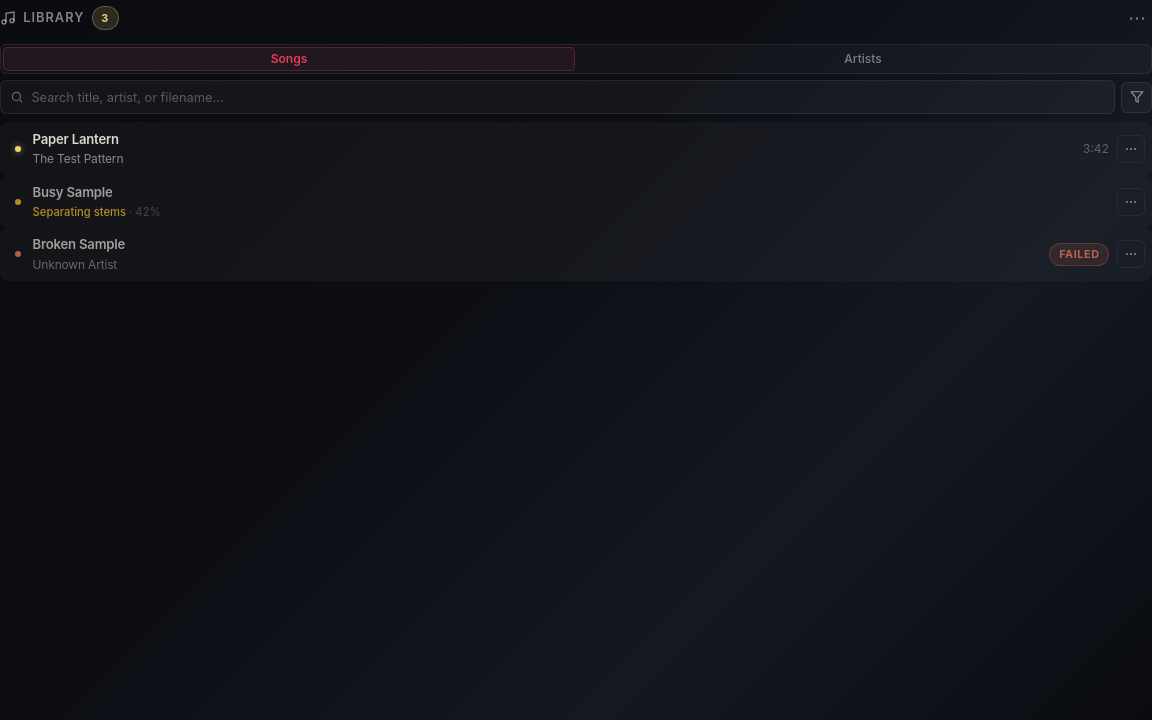
compact layout › keeps the sort reachable without headers, in the filter popover
The width and height of the screenshot is (1152, 720).
Click the button with class "filter-btn".
click(1136, 97)  # box [1121, 82, 1151, 113]
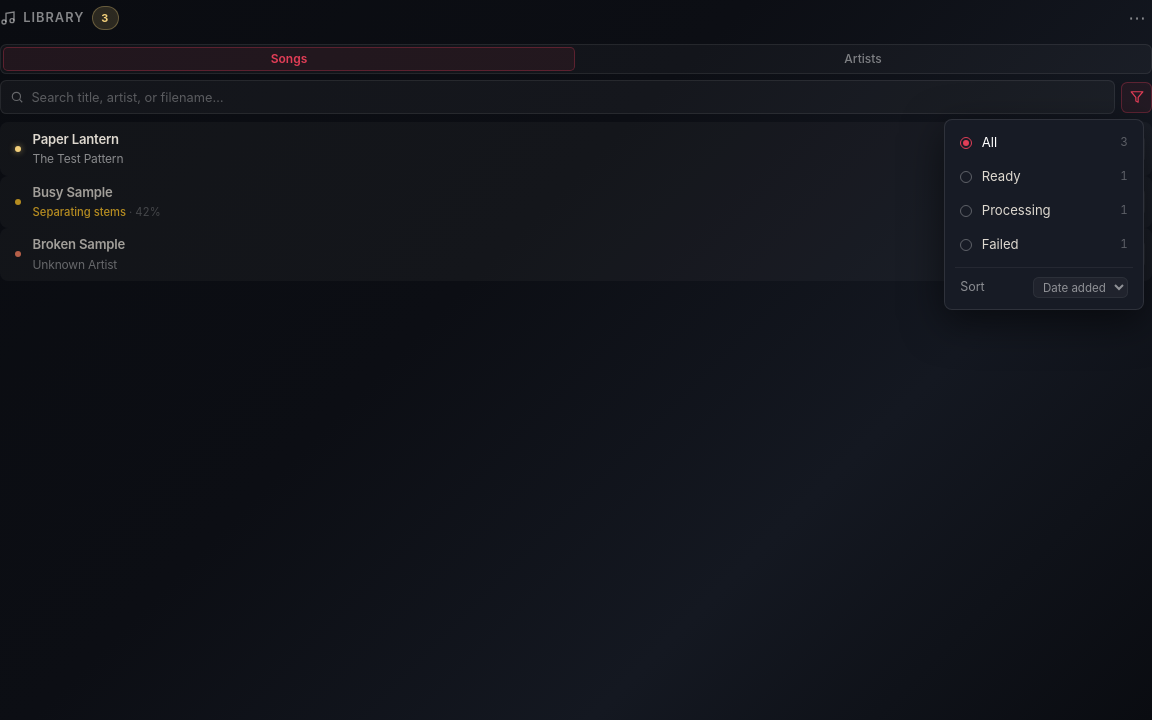
Check: the dropdown with class "sort-select" shows "Date added"
Select "Title" in the dropdown with class "sort-select" at (1080, 288), box [1033, 277, 1128, 298]
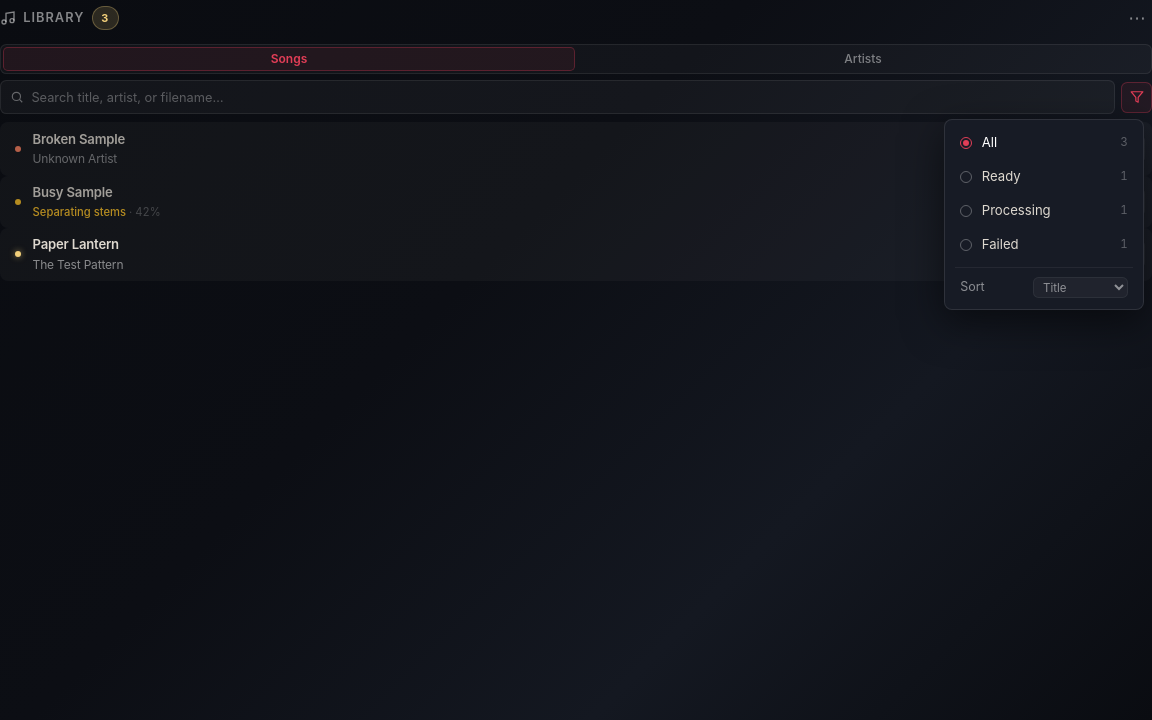
Check: the elements with class "song-item__title" read "Broken Sample", "Busy Sample", "Paper Lantern", in this order, box [33, 131, 125, 147]; [33, 184, 113, 200]; [33, 236, 119, 252]
